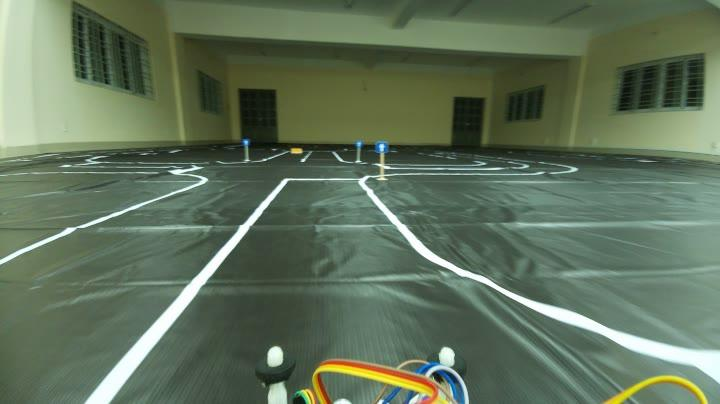onewayroad: (369, 139, 390, 157), (241, 136, 255, 148), (356, 136, 363, 148)
roadblock: (287, 146, 304, 156)
